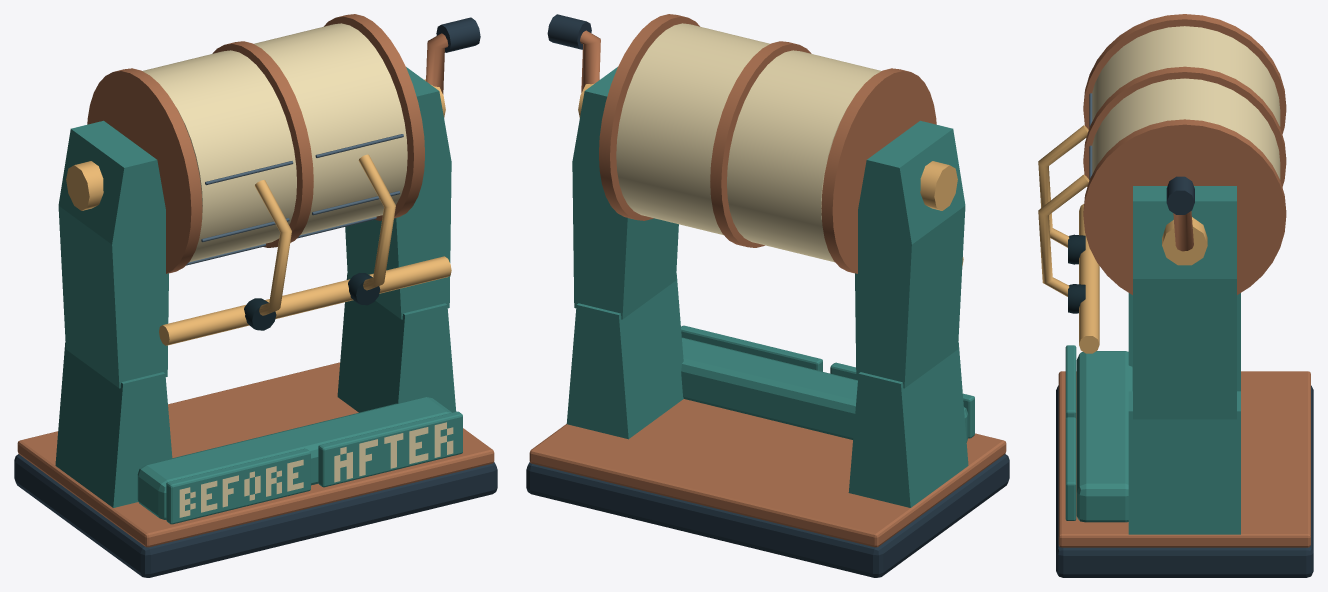
The picture shows the model from 3 angles, left to right: view 1: azimuth 30°, elevation 25°; view 2: azimuth 150°, elevation 25°; view 3: azimuth 270°, elevation 25°; orthographic projection. The views are drawn at different scales.
Parts seen in each view (by area): view 1: PR079 enamel and hardware; view 2: PR079 enamel and hardware; view 3: PR079 enamel and hardware.
Boxes of the visible parts, x1,y1,x2,y2 form: PR079 enamel and hardware: (14,14,497,577); PR079 enamel and hardware: (526,14,1009,577); PR079 enamel and hardware: (1038,14,1313,577).
Size of the model in its own units: 0.95 by 1.02 by 0.594.
